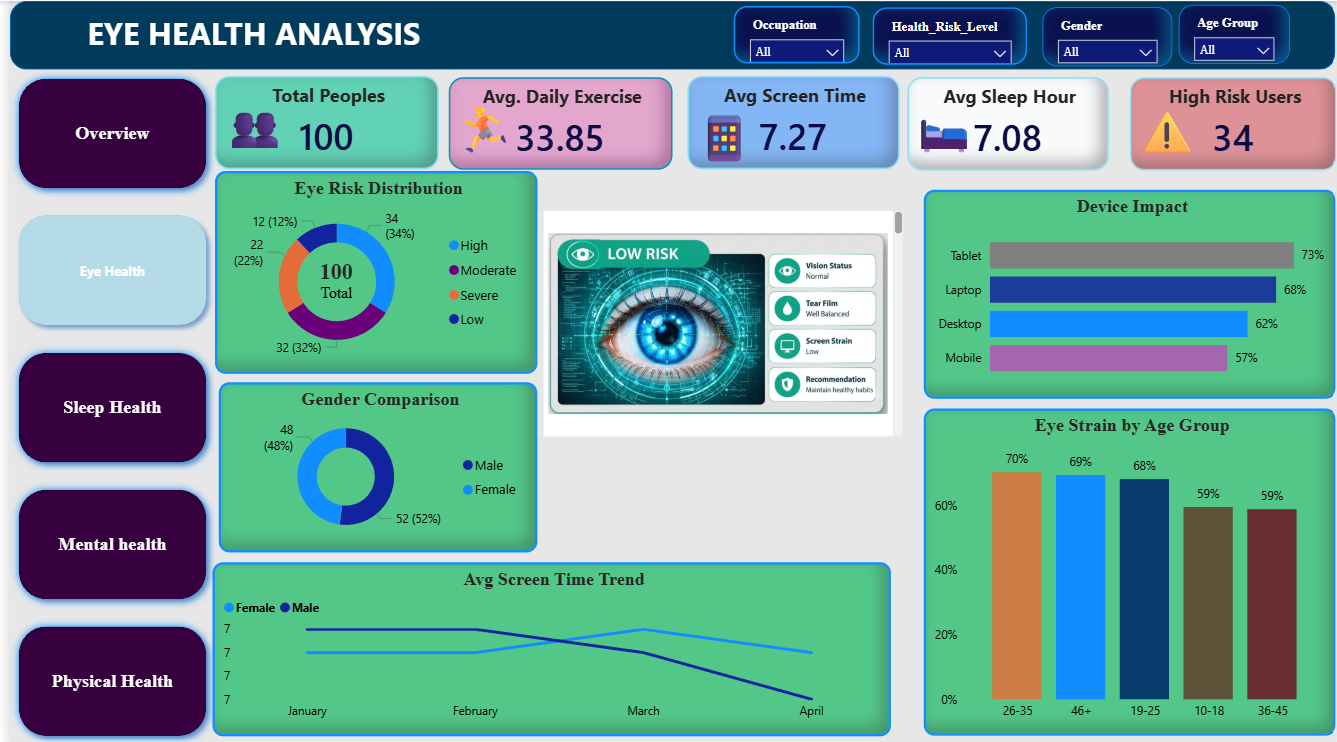

The page's visual inventory and layout, read from the dashboard file:
{"tool":"powerbi","page":{"name":"Eye Health","canvas":[1366,768],"ordinal":1},"visuals":[{"type":"cardVisual","title":"Total Peoples","fields":{"Data":["Count(Digital_Screen_Time_Health_Impact_100Rows.User_ID)"]},"box":[211.2,77.6,230.6,95.9],"z":0},{"type":"pageNavigator","box":[0,70.4,211.2,698],"z":1000},{"type":"columnChart","title":"Eye Strain by Age Group","fields":{"Category":["Digital_Screen_Time_Health_Impact_100Rows.Age Group"],"Y":["Digital_Screen_Time_Health_Impact_100Rows.Eye Strain %"]},"box":[940.7,419.5,424.7,337.2],"z":2000},{"type":"cardVisual","title":"Avg. Daily Exercise","fields":{"Data":["Avg(Digital_Screen_Time_Health_Impact_100Rows.Avg Excercise)"]},"box":[452,78.6,230.6,94.9],"z":3000,"group":"g1"},{"type":"lineChart","title":" Avg Screen Time Trend","fields":{"Series":["Digital_Screen_Time_Health_Impact_100Rows.Gender"],"Y":["Avg(Digital_Screen_Time_Health_Impact_100Rows.Avg Screen Time)"],"Category":["Digital_Screen_Time_Health_Impact_100Rows.Date.Variation.Date Hierarchy.Month"]},"box":[208.5,577.8,698.8,178.9],"z":3000},{"type":"cardVisual","title":"Avg Screen Time","fields":{"Data":["Avg(Digital_Screen_Time_Health_Impact_100Rows.Avg Screen Time)"]},"box":[698,77.6,218.4,95.9],"z":4000,"group":"g2"},{"type":"clusteredBarChart","title":"Device Impact","fields":{"Category":["Digital_Screen_Time_Health_Impact_100Rows.Device_Type"],"Y":["Digital_Screen_Time_Health_Impact_100Rows.Device Impact %"]},"box":[940.7,194.3,424.7,214.9],"z":4000},{"type":"cardVisual","title":"Avg Sleep Hour","fields":{"Data":["Avg(Digital_Screen_Time_Health_Impact_100Rows.Avg Sleep Hours)"]},"box":[924.5,78.6,207.1,95.9],"z":5000,"group":"g3"},{"type":"donutChart","title":"Gender Comparison","fields":{"Category":["Digital_Screen_Time_Health_Impact_100Rows.Gender"],"Y":["Count(Digital_Screen_Time_Health_Impact_100Rows.User_ID)"]},"box":[214.9,392.5,328.2,175],"z":5000},{"type":"cardVisual","title":"High Risk Users","fields":{"Data":["Sum(Digital_Screen_Time_Health_Impact_100Rows.High Risk Users)"]},"box":[1153.1,78.6,213.3,95.9],"z":6000,"group":"g4"},{"type":"textbox","box":[215.3,87.8,79.6,86.7],"z":6000},{"type":"group","id":"g1","title":"Group 1","box":[452,78.6,230.6,104.1],"z":7000},{"type":"group","id":"g2","title":"Group 2","box":[698,77.6,218.4,116.3],"z":8000},{"type":"group","id":"g3","title":"Group 3","box":[924.5,78.6,207.1,95.9],"z":9000},{"type":"group","id":"g4","title":"Group 4","box":[1153.1,78.6,213.3,103.1],"z":10000},{"type":"donutChart","title":"Eye Risk Distribution","fields":{"Category":["Digital_Screen_Time_Health_Impact_100Rows.Health_Risk_Level"],"Y":["CountNonNull(Digital_Screen_Time_Health_Impact_100Rows.User_ID)"]},"box":[211.1,175.6,332.2,208.9],"z":10000,"group":"g5"},{"type":"group","id":"g5","title":"Group 6","box":[211.1,175.6,332.2,208.9],"z":11000},{"type":"tableEx","fields":{"Values":["EyeHealth.ImagesUrl"]},"box":[543.3,216.7,381.1,232.2],"z":12000},{"type":"shape","box":[0,0,1365.4,70.8],"z":13000},{"type":"cardVisual","fields":{"Data":["Digital_Screen_Time_Health_Impact_100Rows.Total Risk Users"]},"box":[286.4,238.9,98.1,101.9],"z":13000,"group":"g5"},{"type":"textbox","box":[21.9,6.4,1303.6,56.6],"z":14000},{"type":"slicer","fields":{"Values":["Digital_Screen_Time_Health_Impact_100Rows.Occupation"]},"box":[745.1,5.1,130,59.2],"z":15000},{"type":"slicer","fields":{"Values":["Digital_Screen_Time_Health_Impact_100Rows.Health_Risk_Level"]},"box":[887.9,6.4,159.6,59.2],"z":16000},{"type":"slicer","fields":{"Values":["Digital_Screen_Time_Health_Impact_100Rows.Gender"]},"box":[1063,6.4,133.8,60.5],"z":17000},{"type":"slicer","fields":{"Values":["Digital_Screen_Time_Health_Impact_100Rows.Age Group"]},"box":[1203.2,3.9,114.5,60.5],"z":18000},{"type":"textbox","box":[698,102.1,93.9,91.8],"z":19000,"group":"g2"},{"type":"textbox","box":[452,92.9,71.4,89.8],"z":20000,"group":"g1"},{"type":"textbox","box":[1153.1,92.9,86.7,88.8],"z":21000,"group":"g4"},{"type":"textbox","box":[924.5,92.9,86.7,78.6],"z":22000,"group":"g3"}]}

Visuals, with their boxes in screenshot pixels (x1, y1, x2, y2), scaled from the page's 1366x768 canvas onto the 1337x742 screenshot:
"Total Peoples" cardVisual: bbox(207, 75, 432, 168)
pageNavigator: bbox(0, 68, 207, 741)
"Eye Strain by Age Group" columnChart: bbox(921, 405, 1336, 731)
"Avg. Daily Exercise" cardVisual: bbox(442, 76, 668, 168)
" Avg Screen Time Trend" lineChart: bbox(204, 558, 888, 731)
"Avg Screen Time" cardVisual: bbox(683, 75, 897, 168)
"Device Impact" clusteredBarChart: bbox(921, 188, 1336, 395)
"Avg Sleep Hour" cardVisual: bbox(905, 76, 1108, 169)
"Gender Comparison" donutChart: bbox(210, 379, 532, 548)
"High Risk Users" cardVisual: bbox(1129, 76, 1336, 169)
textbox: bbox(211, 85, 289, 169)
"Group 1" group: bbox(442, 76, 668, 177)
"Group 2" group: bbox(683, 75, 897, 187)
"Group 3" group: bbox(905, 76, 1108, 169)
"Group 4" group: bbox(1129, 76, 1336, 176)
"Eye Risk Distribution" donutChart: bbox(207, 170, 532, 371)
"Group 6" group: bbox(207, 170, 532, 371)
tableEx - EyeHealth.ImagesUrl: bbox(532, 209, 905, 434)
shape: bbox(0, 0, 1336, 68)
cardVisual - Digital_Screen_Time_Health_Impact_100Rows.Total Risk Users: bbox(280, 231, 376, 329)
textbox: bbox(21, 6, 1297, 61)
slicer - Digital_Screen_Time_Health_Impact_100Rows.Occupation: bbox(729, 5, 857, 62)
slicer - Digital_Screen_Time_Health_Impact_100Rows.Health_Risk_Level: bbox(869, 6, 1025, 63)
slicer - Digital_Screen_Time_Health_Impact_100Rows.Gender: bbox(1040, 6, 1171, 65)
slicer - Digital_Screen_Time_Health_Impact_100Rows.Age Group: bbox(1178, 4, 1290, 62)
textbox: bbox(683, 99, 775, 187)
textbox: bbox(442, 90, 512, 177)
textbox: bbox(1129, 90, 1213, 176)
textbox: bbox(905, 90, 990, 166)
